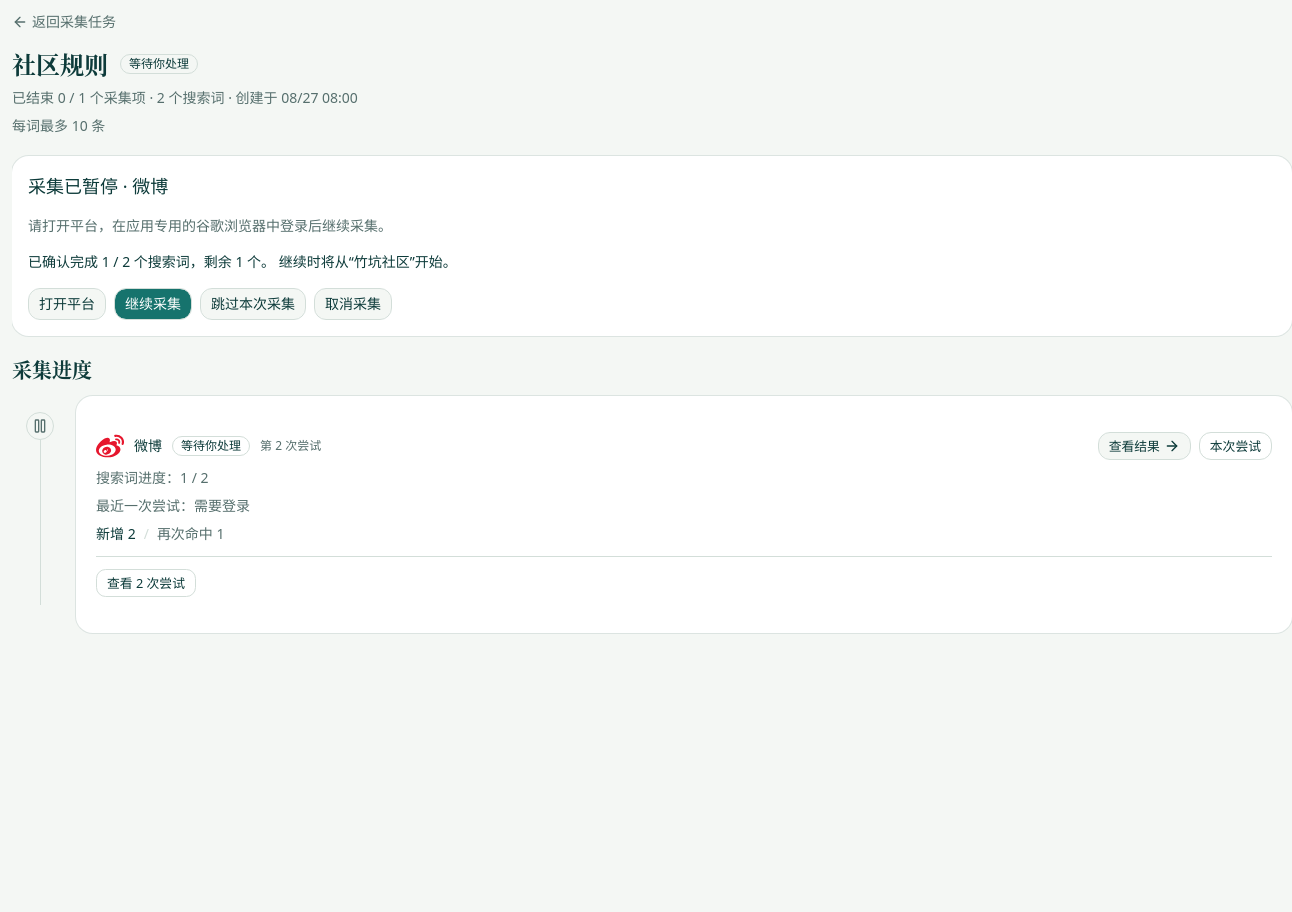
Scenario: manual batch recovery › shows truthful manual outcome navigation_failed without starting collection
The image size is (1292, 912).
Click the button "打开平台".
click(67, 304)  # box [28,288,106,320]
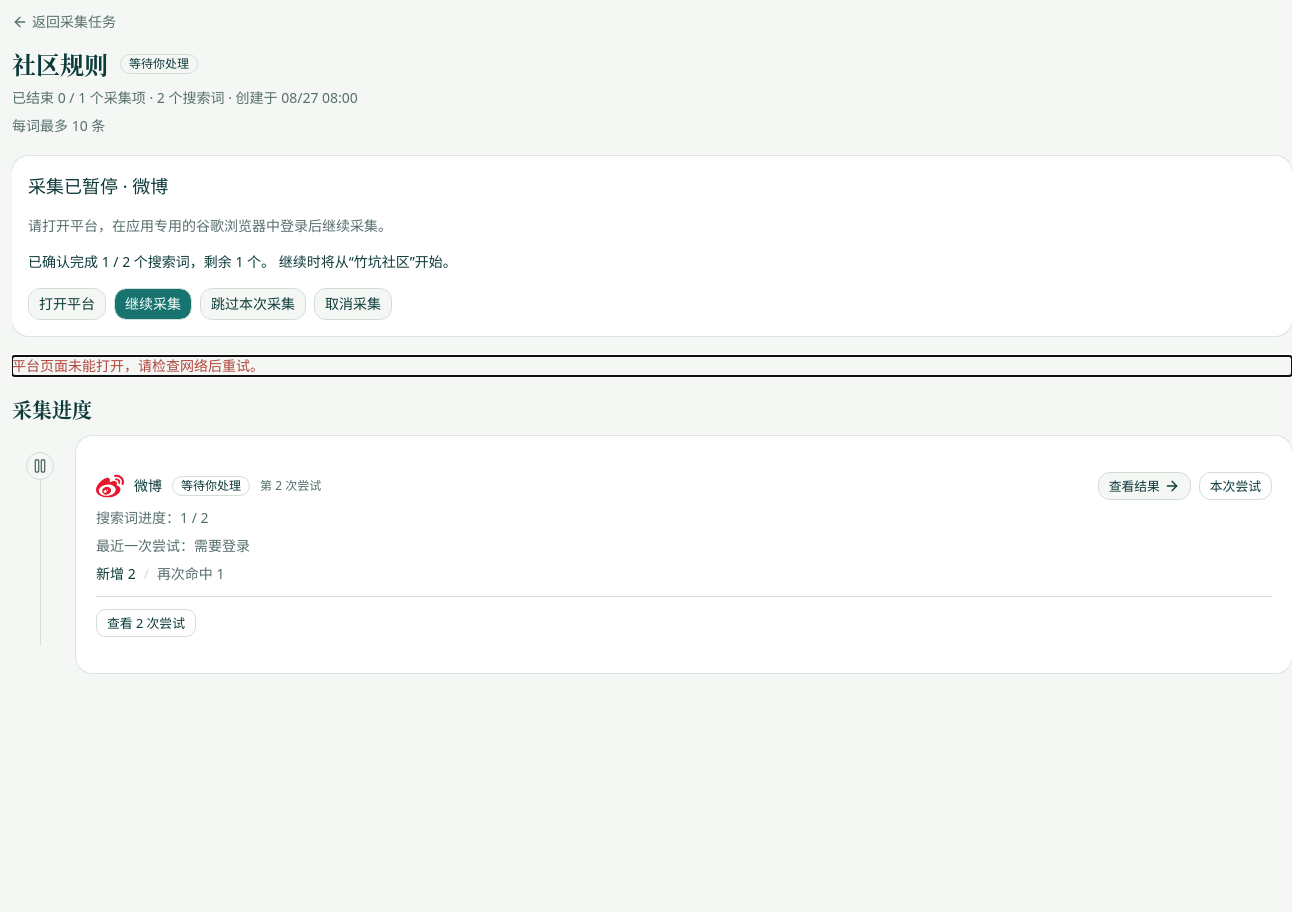
Check: the message shows "平台页面未能打开", box [12,356,264,375]
